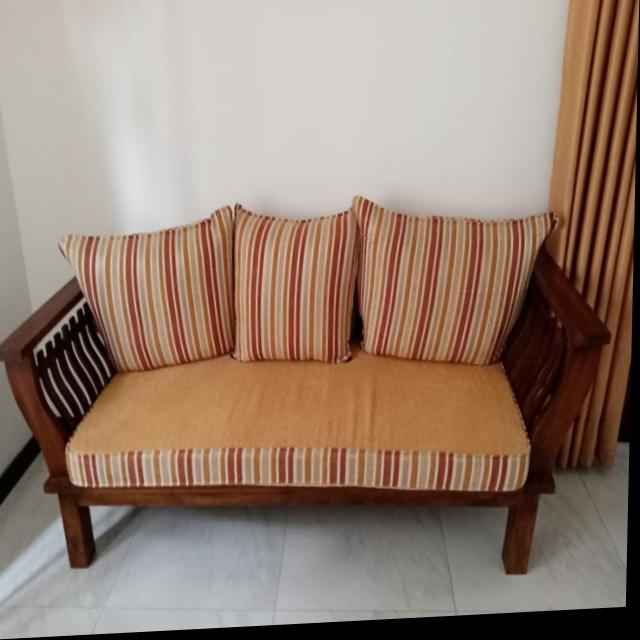Sofa: (0, 197, 611, 599)
